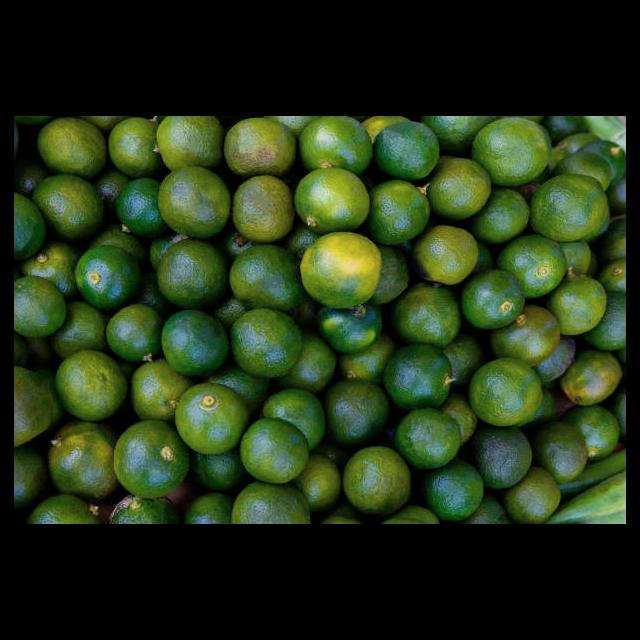lime: (241, 418, 311, 485), (231, 176, 298, 243)
